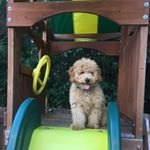puppy: (64, 55, 110, 136)
